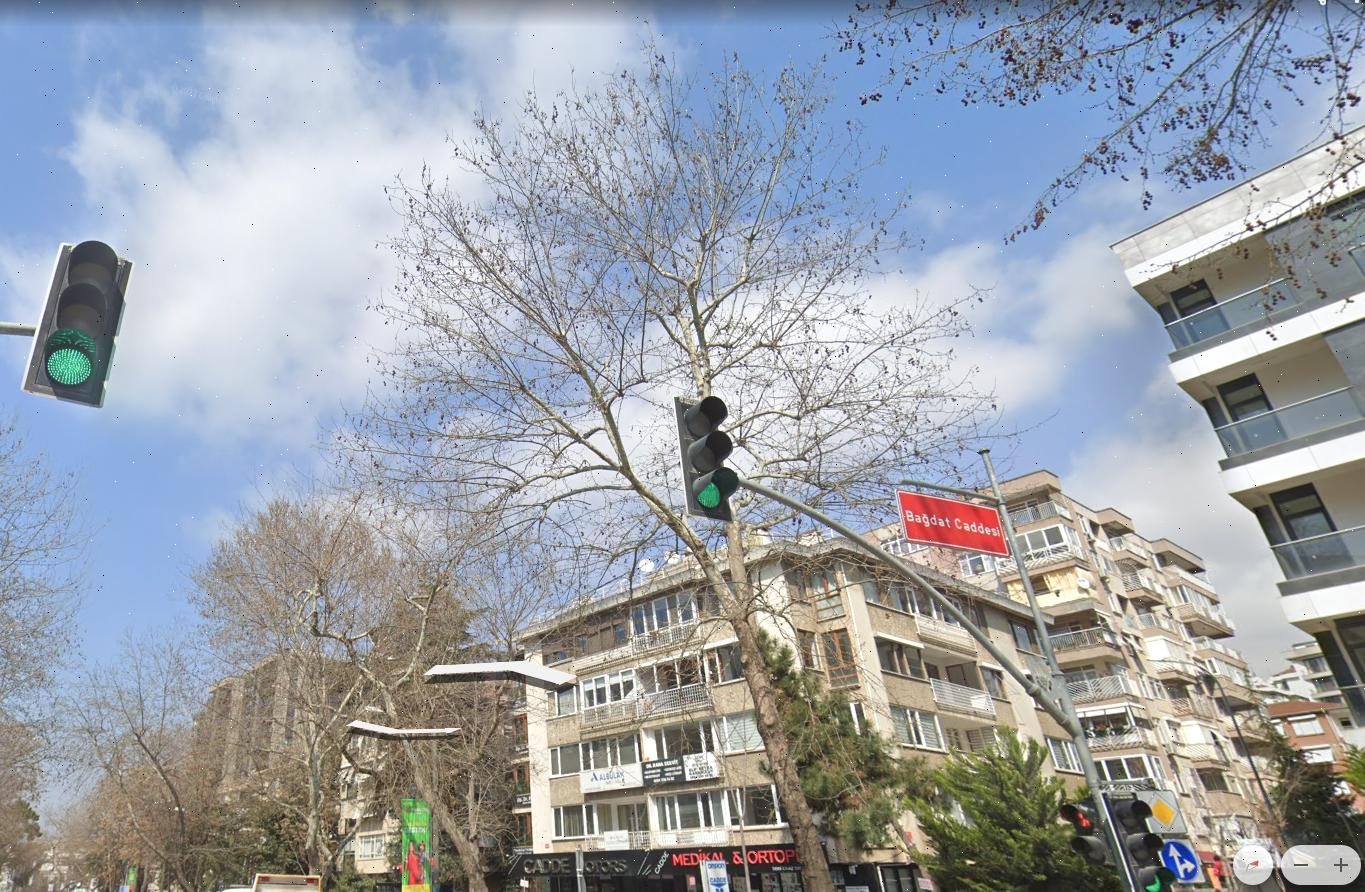greenlight: (40, 237, 122, 420), (676, 396, 734, 518)
